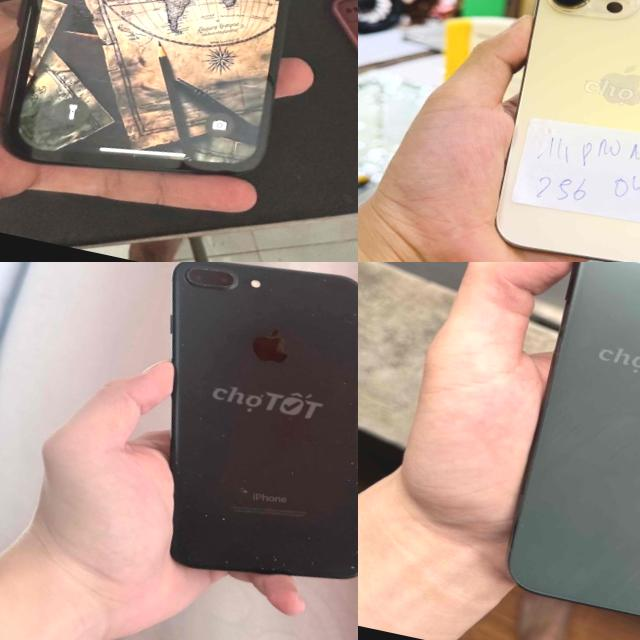scratch: (320, 451, 358, 576), (164, 454, 258, 502), (217, 540, 316, 584), (177, 410, 233, 459), (178, 262, 248, 295), (335, 375, 358, 410), (194, 505, 228, 526), (258, 270, 282, 292), (280, 460, 301, 480), (168, 331, 190, 349), (298, 529, 312, 540), (346, 308, 358, 320), (317, 276, 329, 286), (230, 304, 242, 314)
